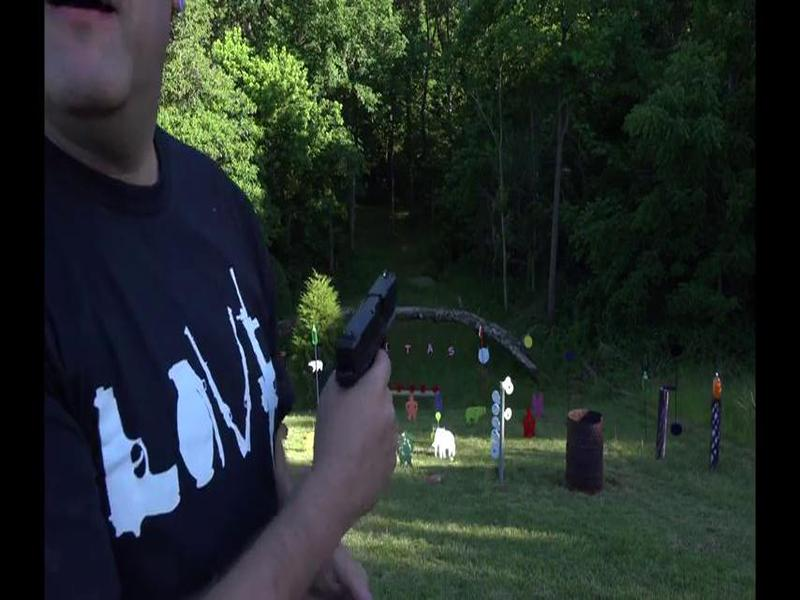Pistola: (325, 263, 407, 408)
